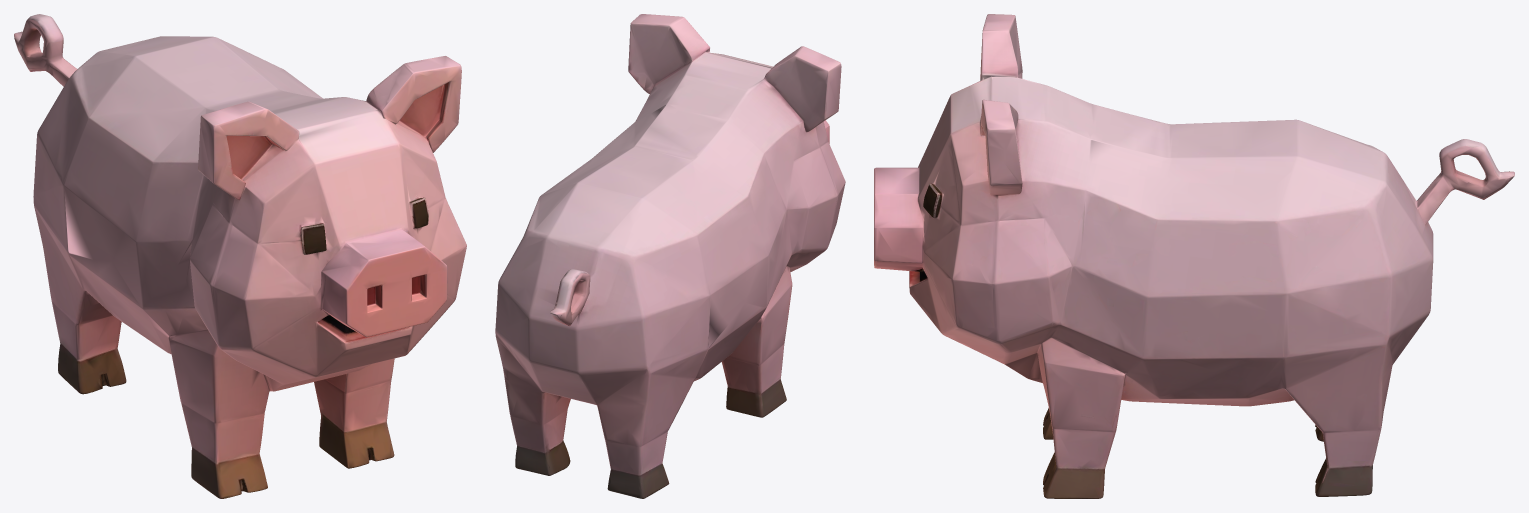
The model's file is pig.glb.
The picture shows the model from 3 angles, left to right: view 1: azimuth 30°, elevation 25°; view 2: azimuth 150°, elevation 25°; view 3: azimuth 270°, elevation 25°; orthographic projection. The views are drawn at different scales.
Parts seen in each view (by area): view 1: node_0; view 2: node_0; view 3: node_0.
Part boxes in pixels (<box>): node_0: <box>14,14,466,498</box>; node_0: <box>495,14,845,498</box>; node_0: <box>874,14,1514,498</box>.
Size of the model in its own units: 0.4921 by 0.7802 by 1.15.
Materials: 1 (1 with a texture image).
